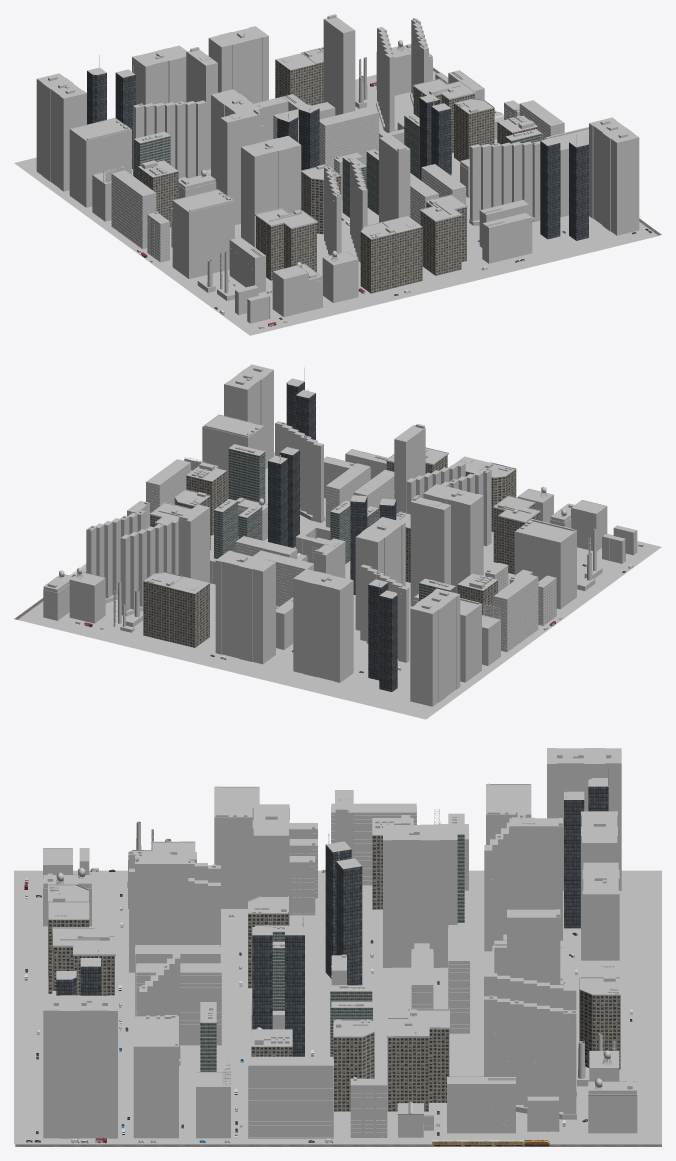
Rendered from City.fbx.
3 renders of one model, top to bottom at view 1: azimuth 30°, elevation 25°; view 2: azimuth 150°, elevation 25°; view 3: azimuth 270°, elevation 25°, orthographic. The views are drawn at different scales.
Parts seen in each view (by area): view 1: floor, Building2, Building2.005, Building12.002, Building3.002, Building2.003, Building12.005, Building3.001, Building2.002, building.018, building.012, Building1.001 (+49 smaller); view 2: floor, Building2.002, Building2.004, Building2.003, Building3.002, Building12.001, Building1.002, Building2.005, Building2.001, Building2, Building12, building.007 (+44 smaller); view 3: floor, Building2, Building2.001, Building12, Building5, building.001, Building3, Building1, Building1.003, Building3.002, Building2.003, Building10 (+49 smaller).
Part boxes in pixels (<box>): floor: <box>14,71,658,335</box>; Building2: <box>589,117,639,235</box>; Building2.005: <box>241,135,301,247</box>; Building12.002: <box>470,141,540,221</box>; Building3.002: <box>172,189,234,279</box>; Building2.003: <box>36,73,86,191</box>; Building12.005: <box>133,100,206,178</box>; Building3.001: <box>69,117,131,207</box>; Building2.002: <box>208,26,268,103</box>; building.018: <box>254,208,317,280</box>; building.012: <box>419,194,467,275</box>; Building1.001: <box>323,17,355,115</box>; floor: <box>18,452,661,719</box>; Building2.002: <box>215,550,275,664</box>; Building2.004: <box>293,569,353,682</box>; Building2.003: <box>410,588,460,706</box>; Building3.002: <box>514,521,576,609</box>; Building12.001: <box>120,518,178,611</box>; Building1.002: <box>410,497,450,606</box>; Building2.005: <box>423,484,483,593</box>; Building2.001: <box>355,517,405,630</box>; Building2: <box>224,364,273,469</box>; Building12: <box>86,510,145,598</box>; building.007: <box>169,576,209,647</box>; floor: <box>14,870,661,1144</box>; Building2: <box>43,995,117,1138</box>; Building2.001: <box>383,824,457,967</box>; Building12: <box>484,996,576,1114</box>; Building5: <box>248,1056,333,1138</box>; building.001: <box>386,1009,449,1111</box>; Building3: <box>133,1016,178,1138</box>; Building1: <box>509,818,562,940</box>; Building1.003: <box>135,856,188,947</box>; Building3.002: <box>214,786,259,908</box>; Building2.003: <box>547,748,621,890</box>; Building10: <box>447,1076,515,1133</box>.
Size of the model in its own units: 40355 by 10379 by 40001.
